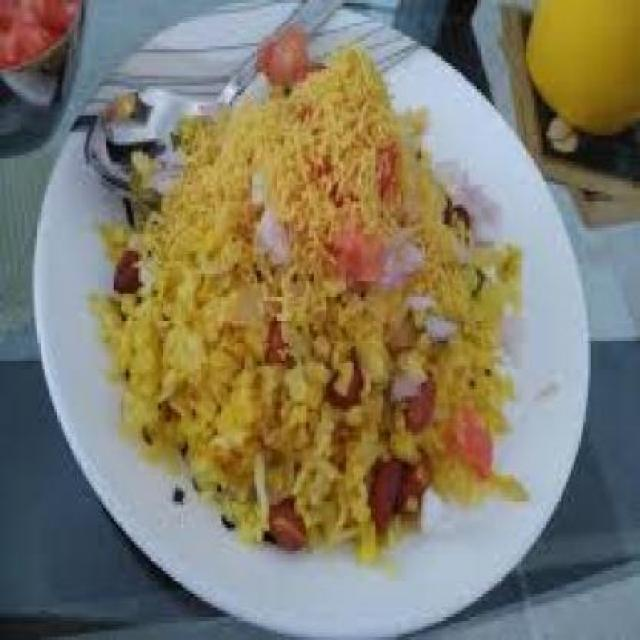poha: (88, 46, 528, 566)
